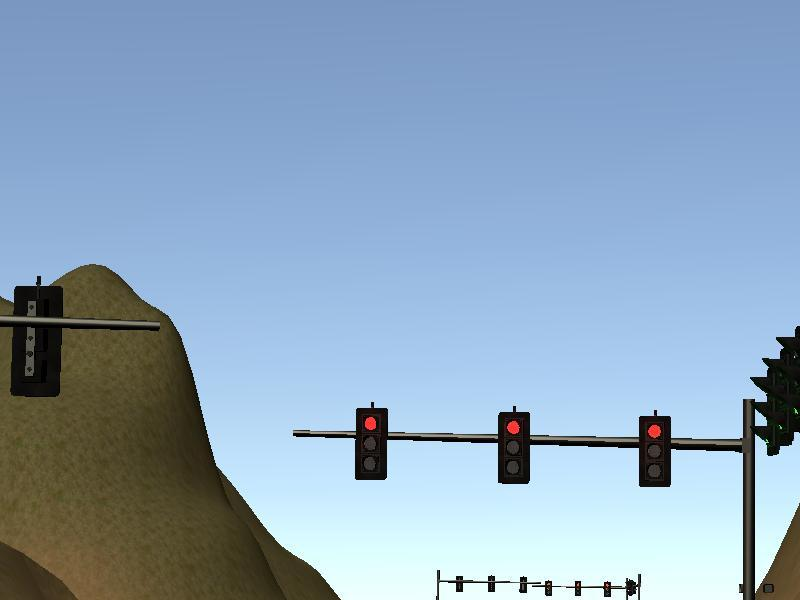Red: (355, 408, 387, 480), (638, 415, 670, 487), (497, 412, 529, 484), (573, 580, 581, 597), (544, 580, 552, 596), (603, 579, 610, 597)
